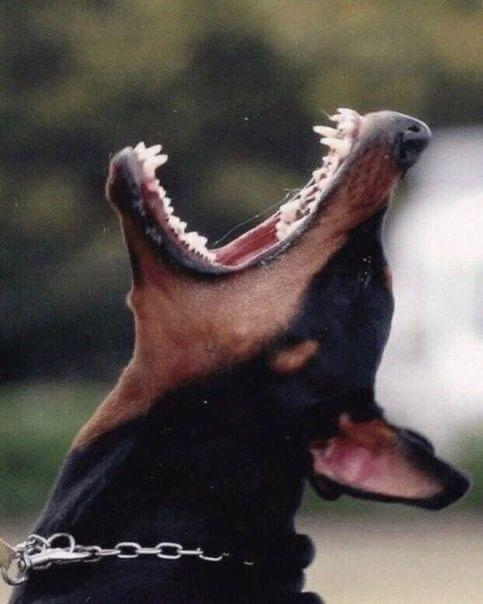adult_dog: (7, 104, 470, 604)
